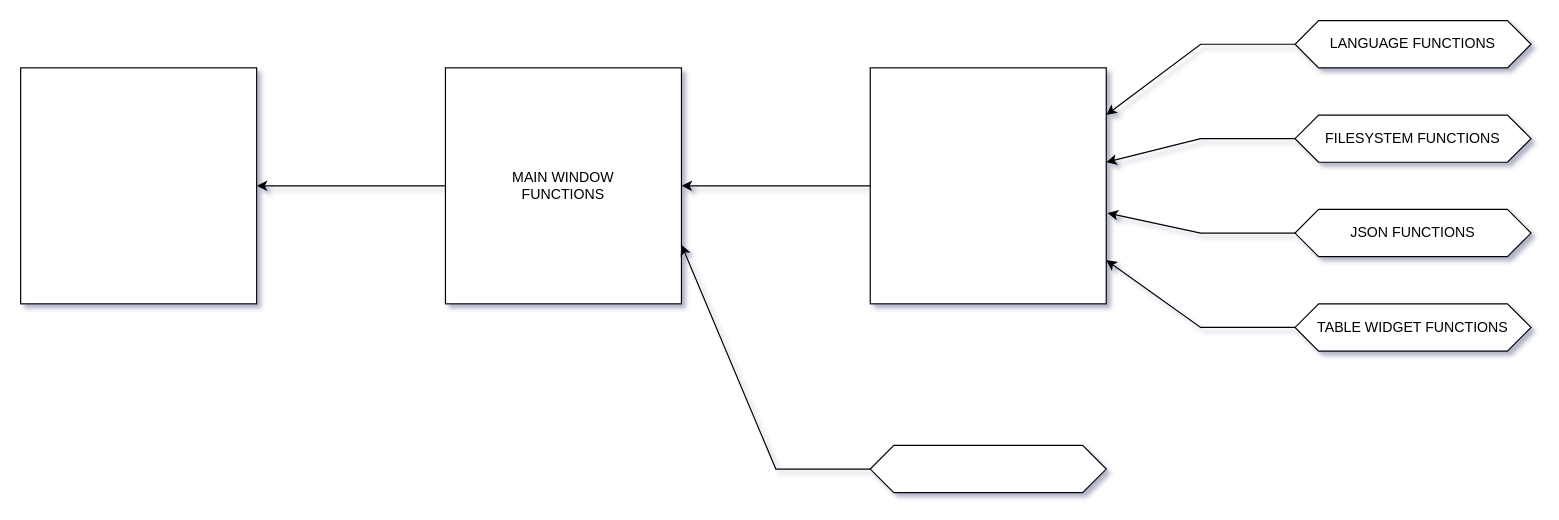
Some shapes in this 1559 by 520 pixel diagram are drawn without their labels. Each missing label, with the centre of its shape:
BaseUtils: pixel 987 185
GRAPHIC FUNCTIONS: pixel 987 468
MAIN FUNCTION: pixel 138 185
